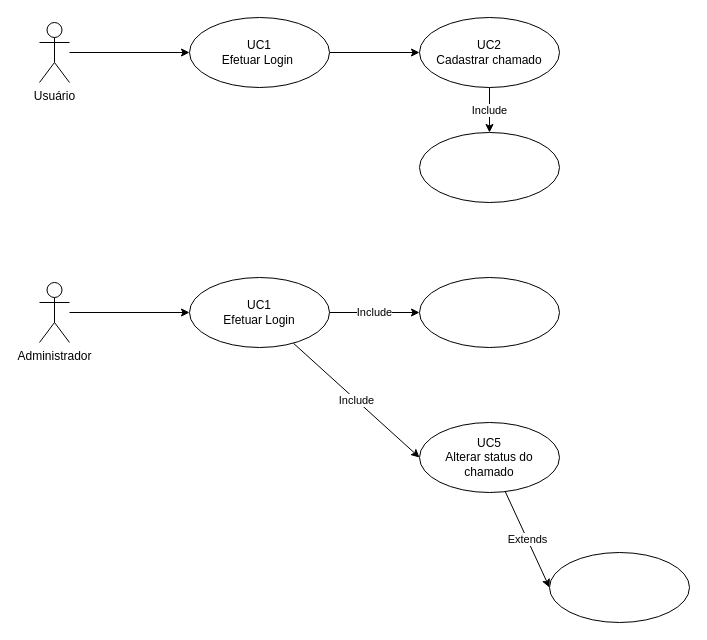
Image size: 707x640. Some labels were removed from this diagram. The shapes that lost their labels are listed below. From the top down, each one's box as (x1, y1, x2, y2) in pixels, then its label:
(418, 132, 560, 202): UC3 Preencher formulário
(418, 276, 560, 348): UC4 Listar chamados
(548, 552, 690, 622): UC6 Enviar notificação ao cliente
